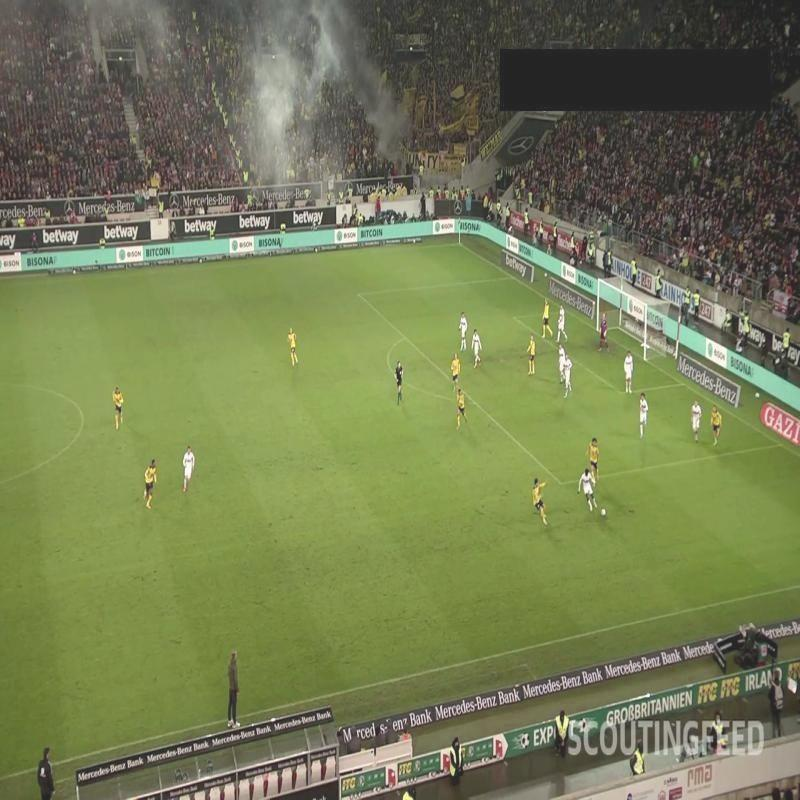1: (451, 236, 465, 250)
10: (397, 329, 411, 343)
11: (468, 396, 482, 410)
12: (554, 477, 568, 491)
2: (504, 269, 518, 283)
3: (556, 303, 572, 317)
4: (676, 375, 690, 389)
5: (774, 437, 788, 451)
7: (506, 310, 520, 324)
8: (618, 383, 632, 397)
9: (351, 286, 365, 300)
c: (76, 413, 90, 427)
